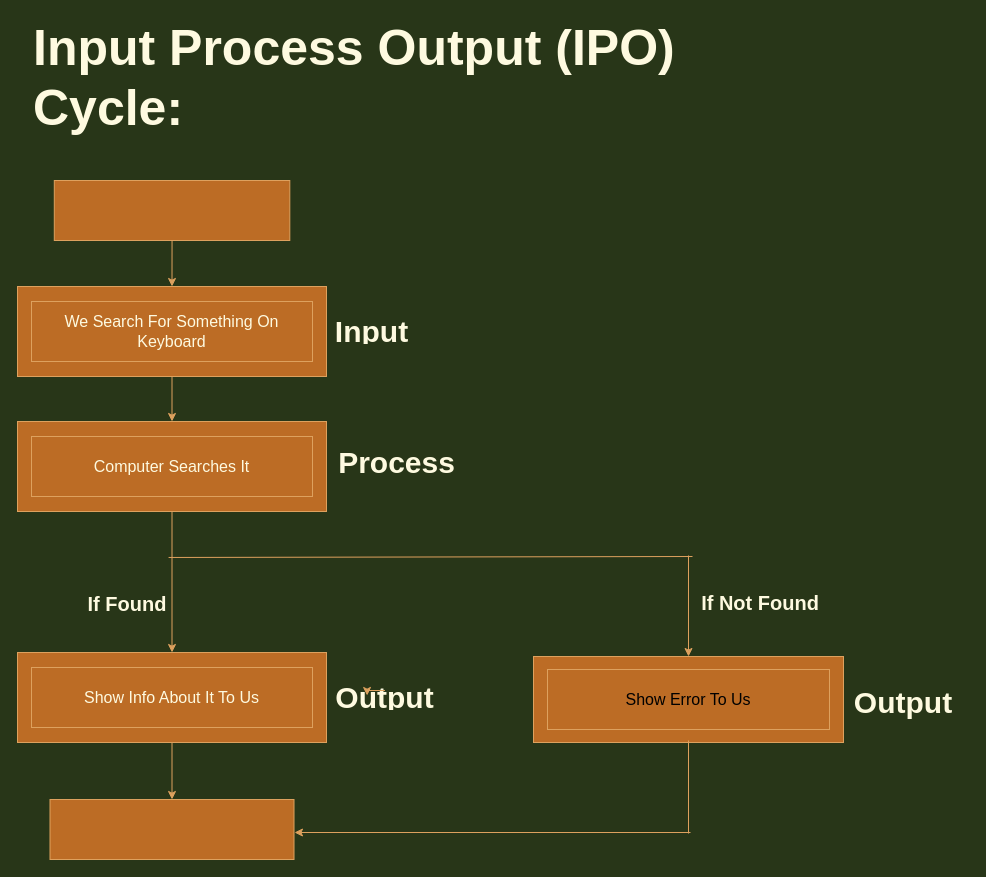
The diagram is 986 pixels wide and 877 high, and some of its shapes have lost their labels. The shapes that lost their labels are listed below. From the top down, each one's box as (x1, y1, x2, y2) in pixels, then its label:
(53, 180, 290, 240): Start
(49, 798, 294, 860): The End
